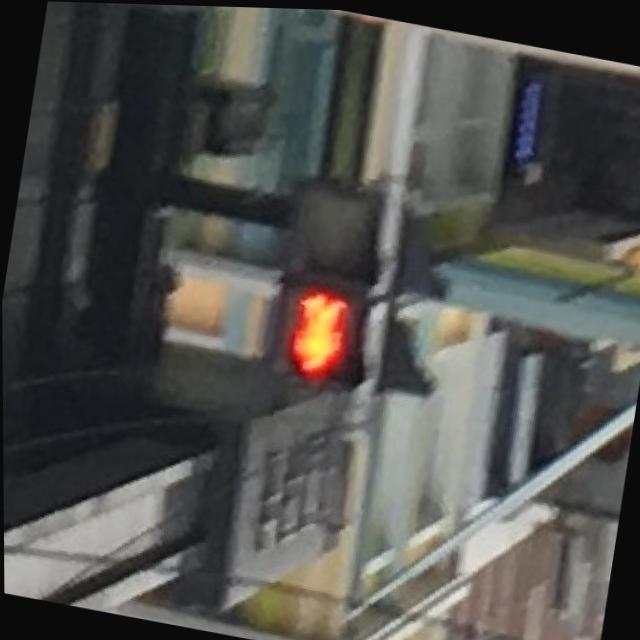red_light: (272, 276, 361, 381)
